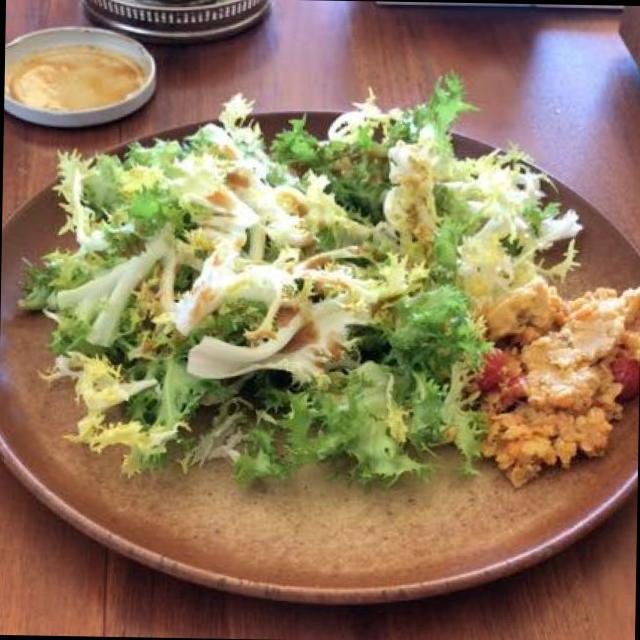Green Salad: (47, 122, 498, 475)
